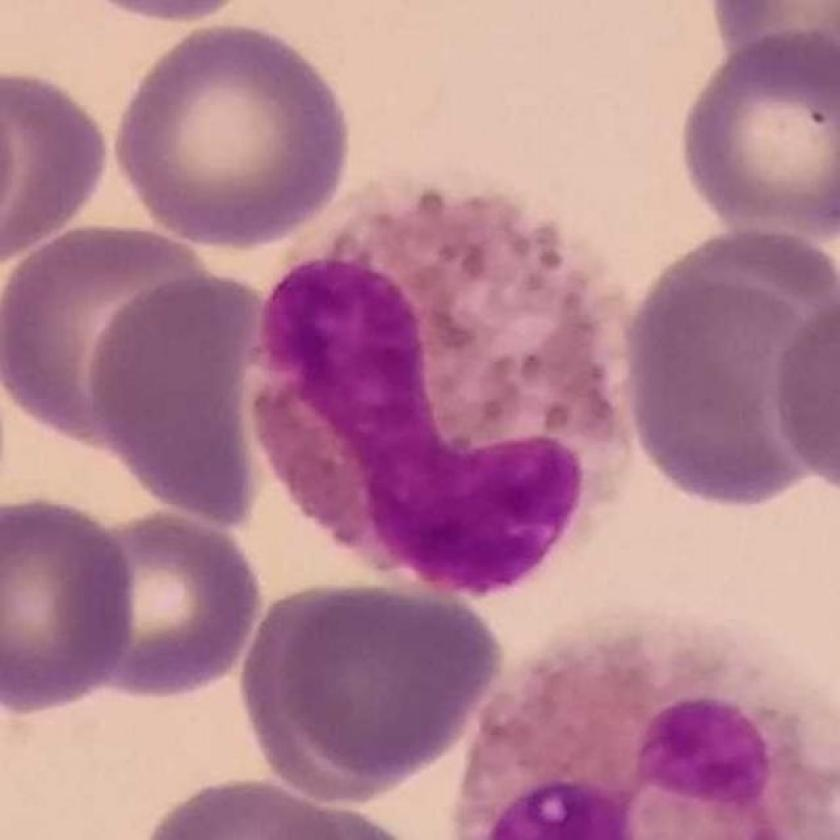eosinophil: (243, 160, 647, 603), (450, 614, 840, 840)
